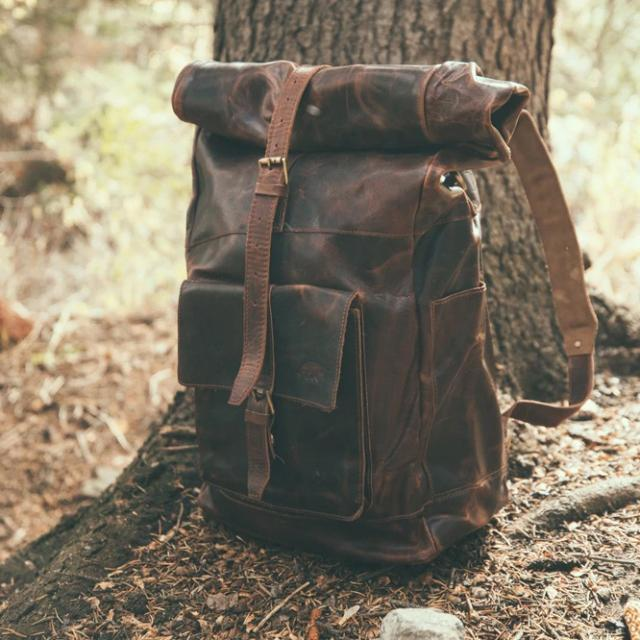Backpacks: (162, 49, 538, 584)
